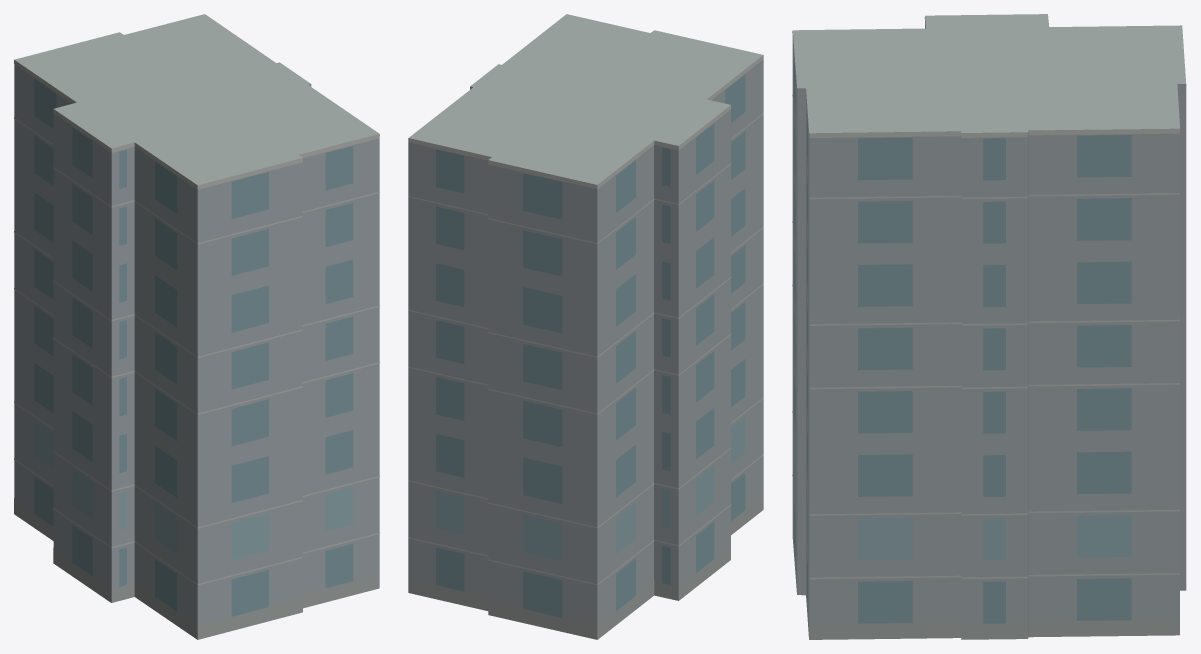
File: survey-upis-32761054.glb
3 renders of one model, left to right at view 1: azimuth 30°, elevation 25°; view 2: azimuth 150°, elevation 25°; view 3: azimuth 270°, elevation 25°, orthographic. The views are drawn at different scales.
Visible parts, largest first — view 1: survey-upis-32761054.tmp; view 2: survey-upis-32761054.tmp; view 3: survey-upis-32761054.tmp.
Part boxes in pixels (box(x1,y1,x2,y2)): survey-upis-32761054.tmp: box(14, 14, 379, 639); survey-upis-32761054.tmp: box(408, 14, 763, 639); survey-upis-32761054.tmp: box(792, 14, 1186, 639).
Size of the model in its own units: 12.79 by 25.3 by 17.83.
